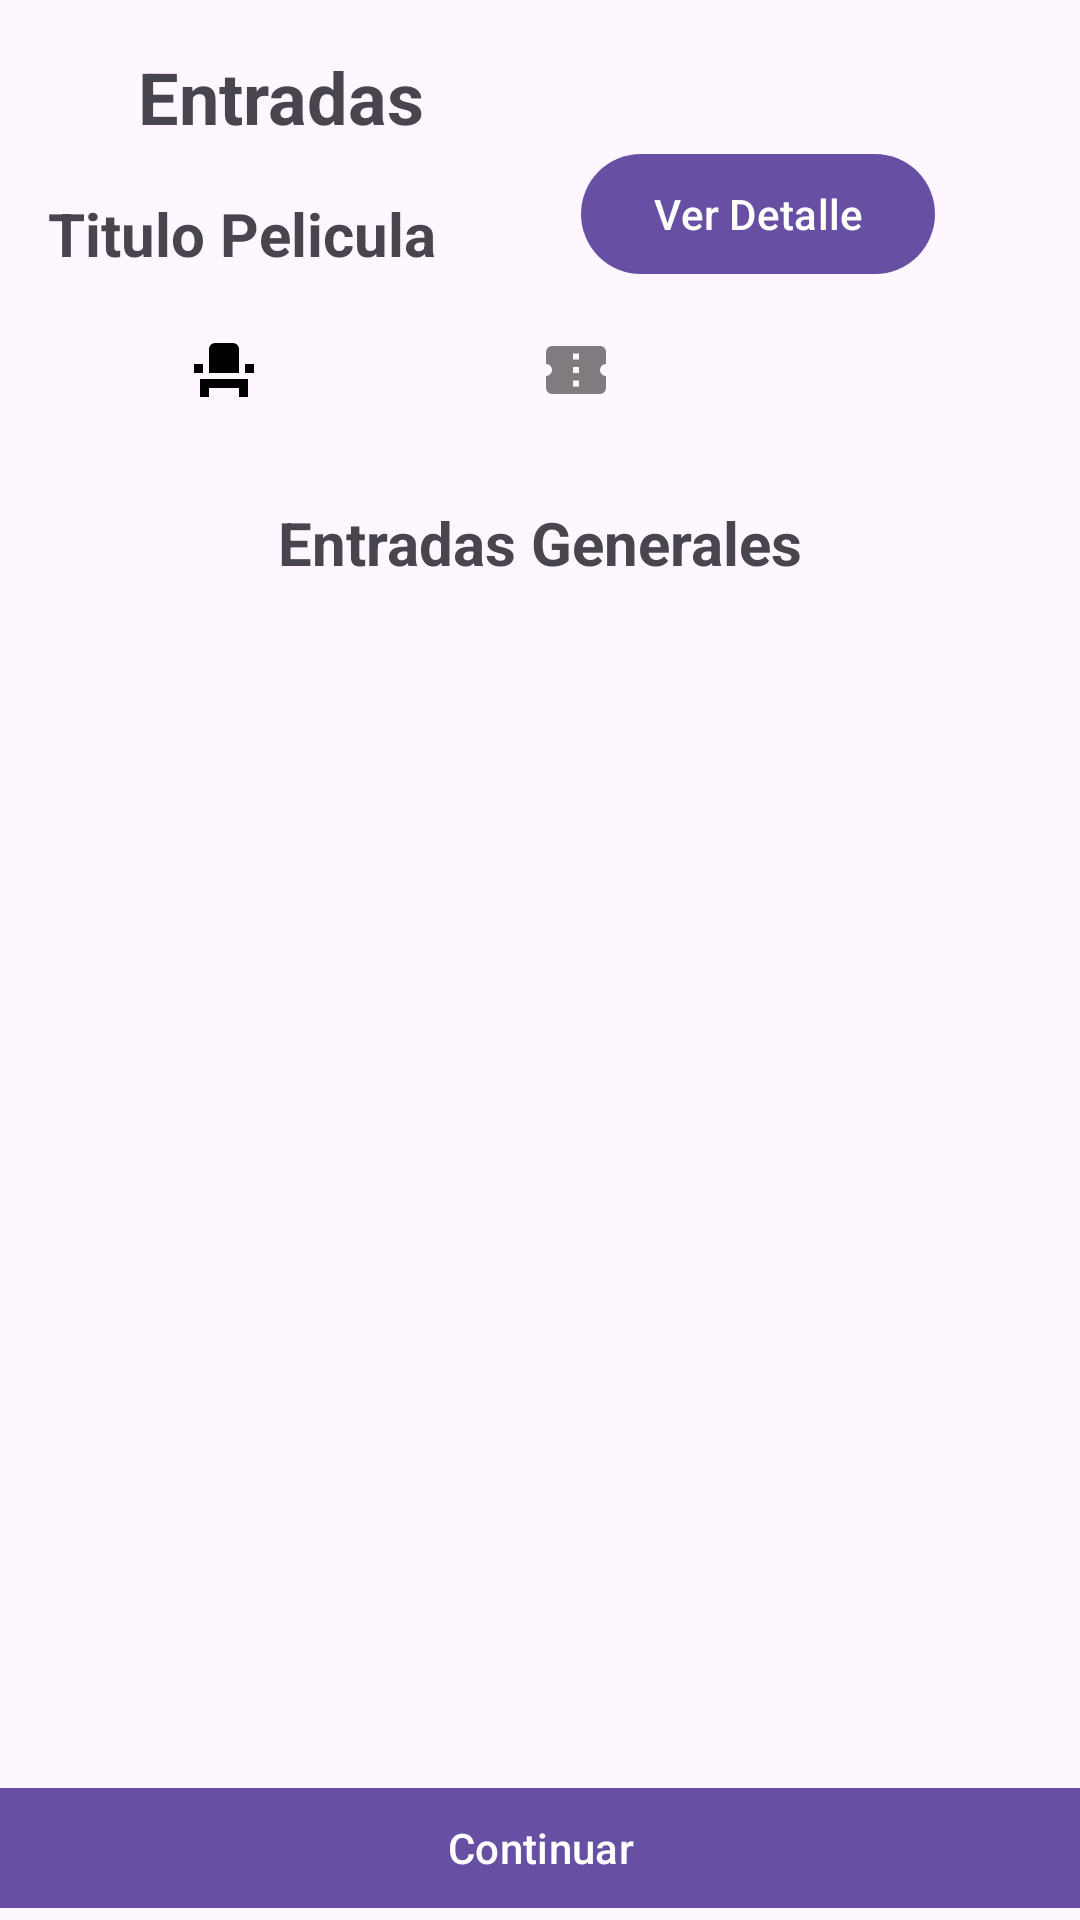

Icons on this 1080w x 1920h Android screen, each with the point to tap as (x=x, y=y):
seat: (x=224, y=370)
